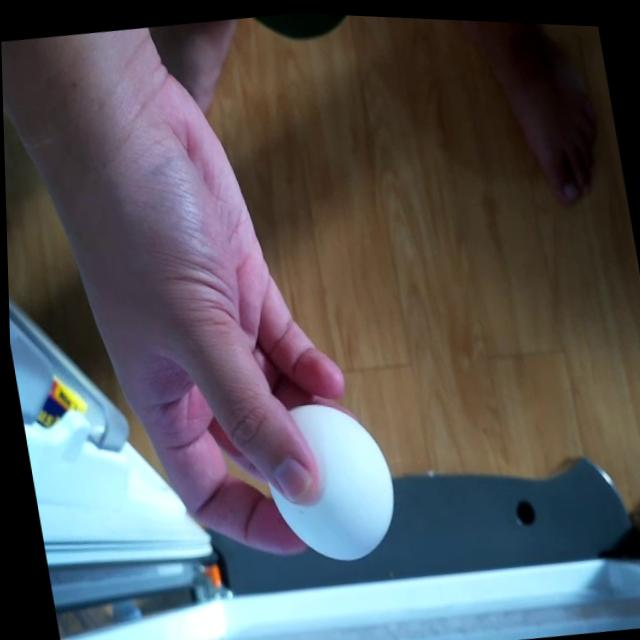egg: (244, 385, 409, 575)
